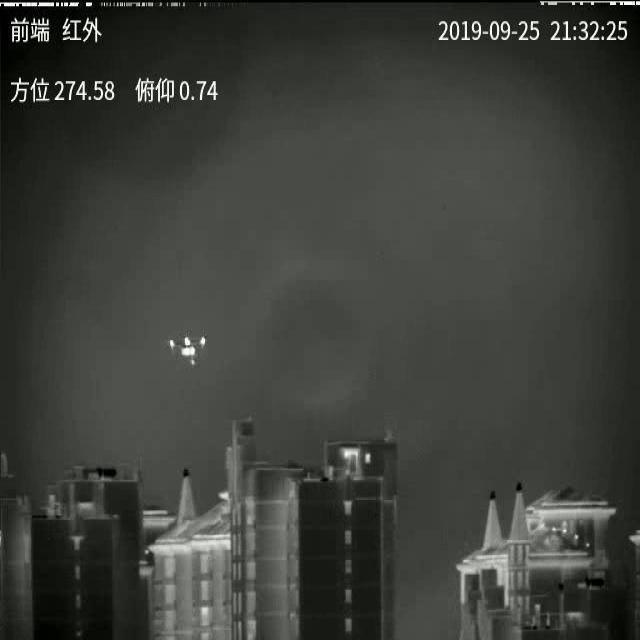drone: (167, 333, 207, 366)
